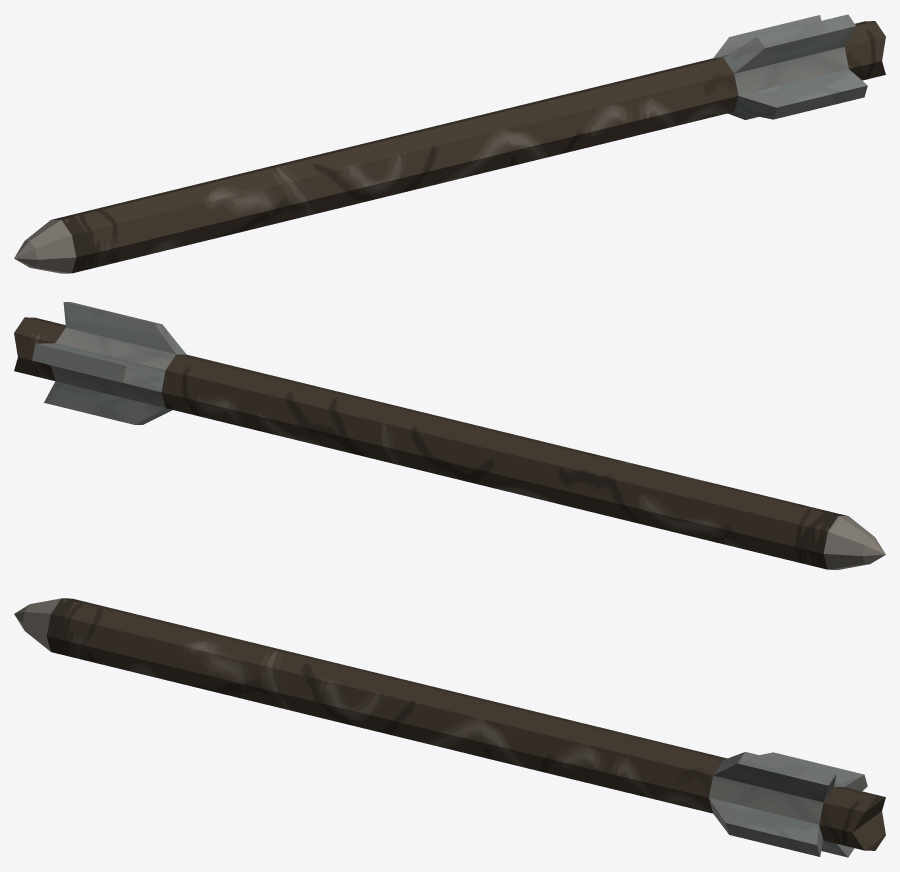
The model's file is ShortWoodBolt.fbx.
The picture shows the model from 3 angles, top to bottom: view 1: azimuth 30°, elevation 25°; view 2: azimuth 150°, elevation 25°; view 3: azimuth 330°, elevation 25°; orthographic projection.
Visible parts, largest first — view 1: Cylinder.002; view 2: Cylinder.002; view 3: Cylinder.002.
Boxes of the visible parts, box(x1,y1,x2,y2) form: Cylinder.002: box(14, 14, 885, 273); Cylinder.002: box(14, 302, 885, 569); Cylinder.002: box(14, 598, 885, 857).
Size of the model in its own units: 575 by 58.87 by 58.88.
